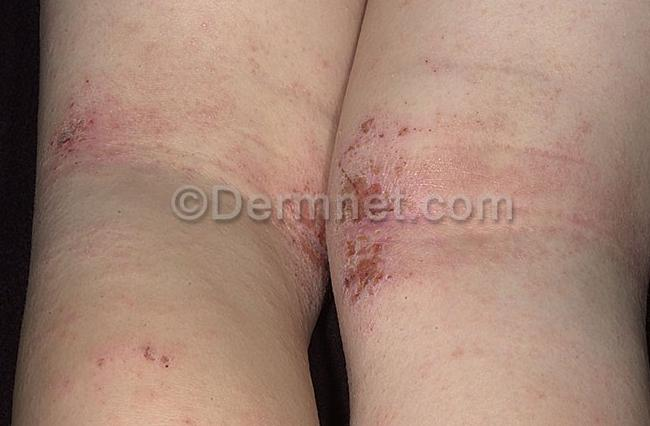Eritema 2: (38, 70, 650, 310)
excoriacion 2: (39, 71, 290, 191)
excoriacion 3: (276, 123, 557, 301)
exudacion 3: (45, 87, 116, 164)
xerosis 1: (37, 69, 650, 306)
